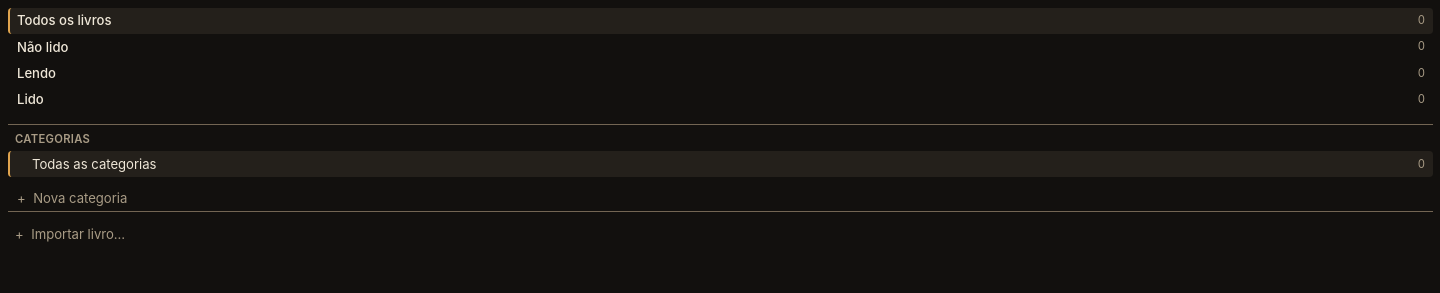
Test: PainelDeBiblioteca › criar categoria na raiz: a linha-fantasma vira campo, Enter envia o nome com parentId null e o campo fecha
Expected: the text "Todos os livros" is shown, [17,12,112,28]
Click the button "+ Nova categoria": (80, 198) [8,185,1432,211]
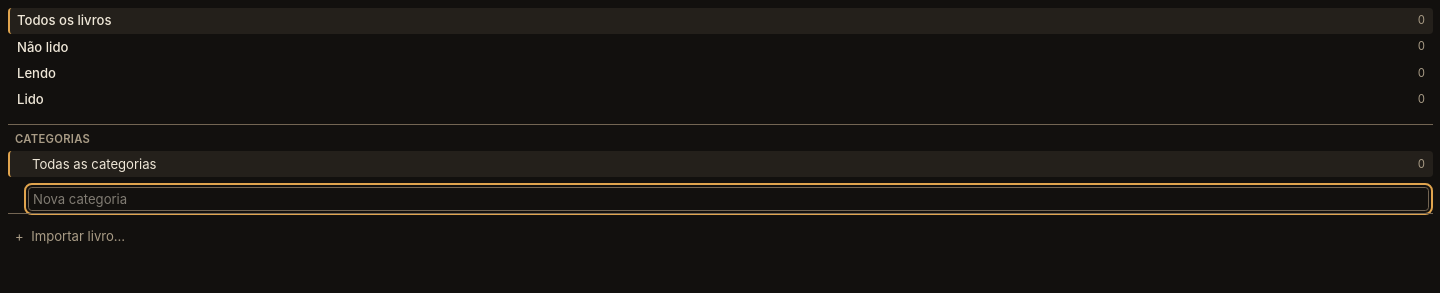
In the field named "Nome da nova categoria": (729, 199) [28,187,1429,211], type "Não-ficção"
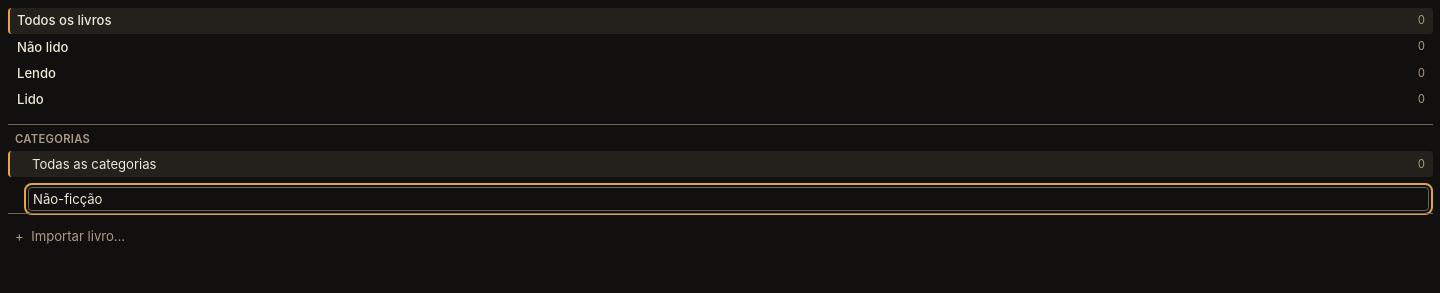
Press Enter in the field named "Nome da nova categoria", box [28,187,1429,211]
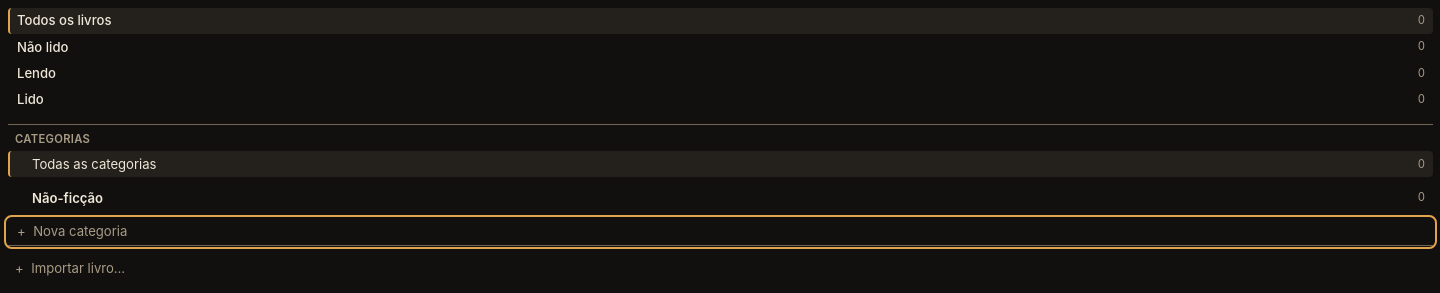
Expected: the button "+ Nova categoria" is shown, [8,218,1432,245]
